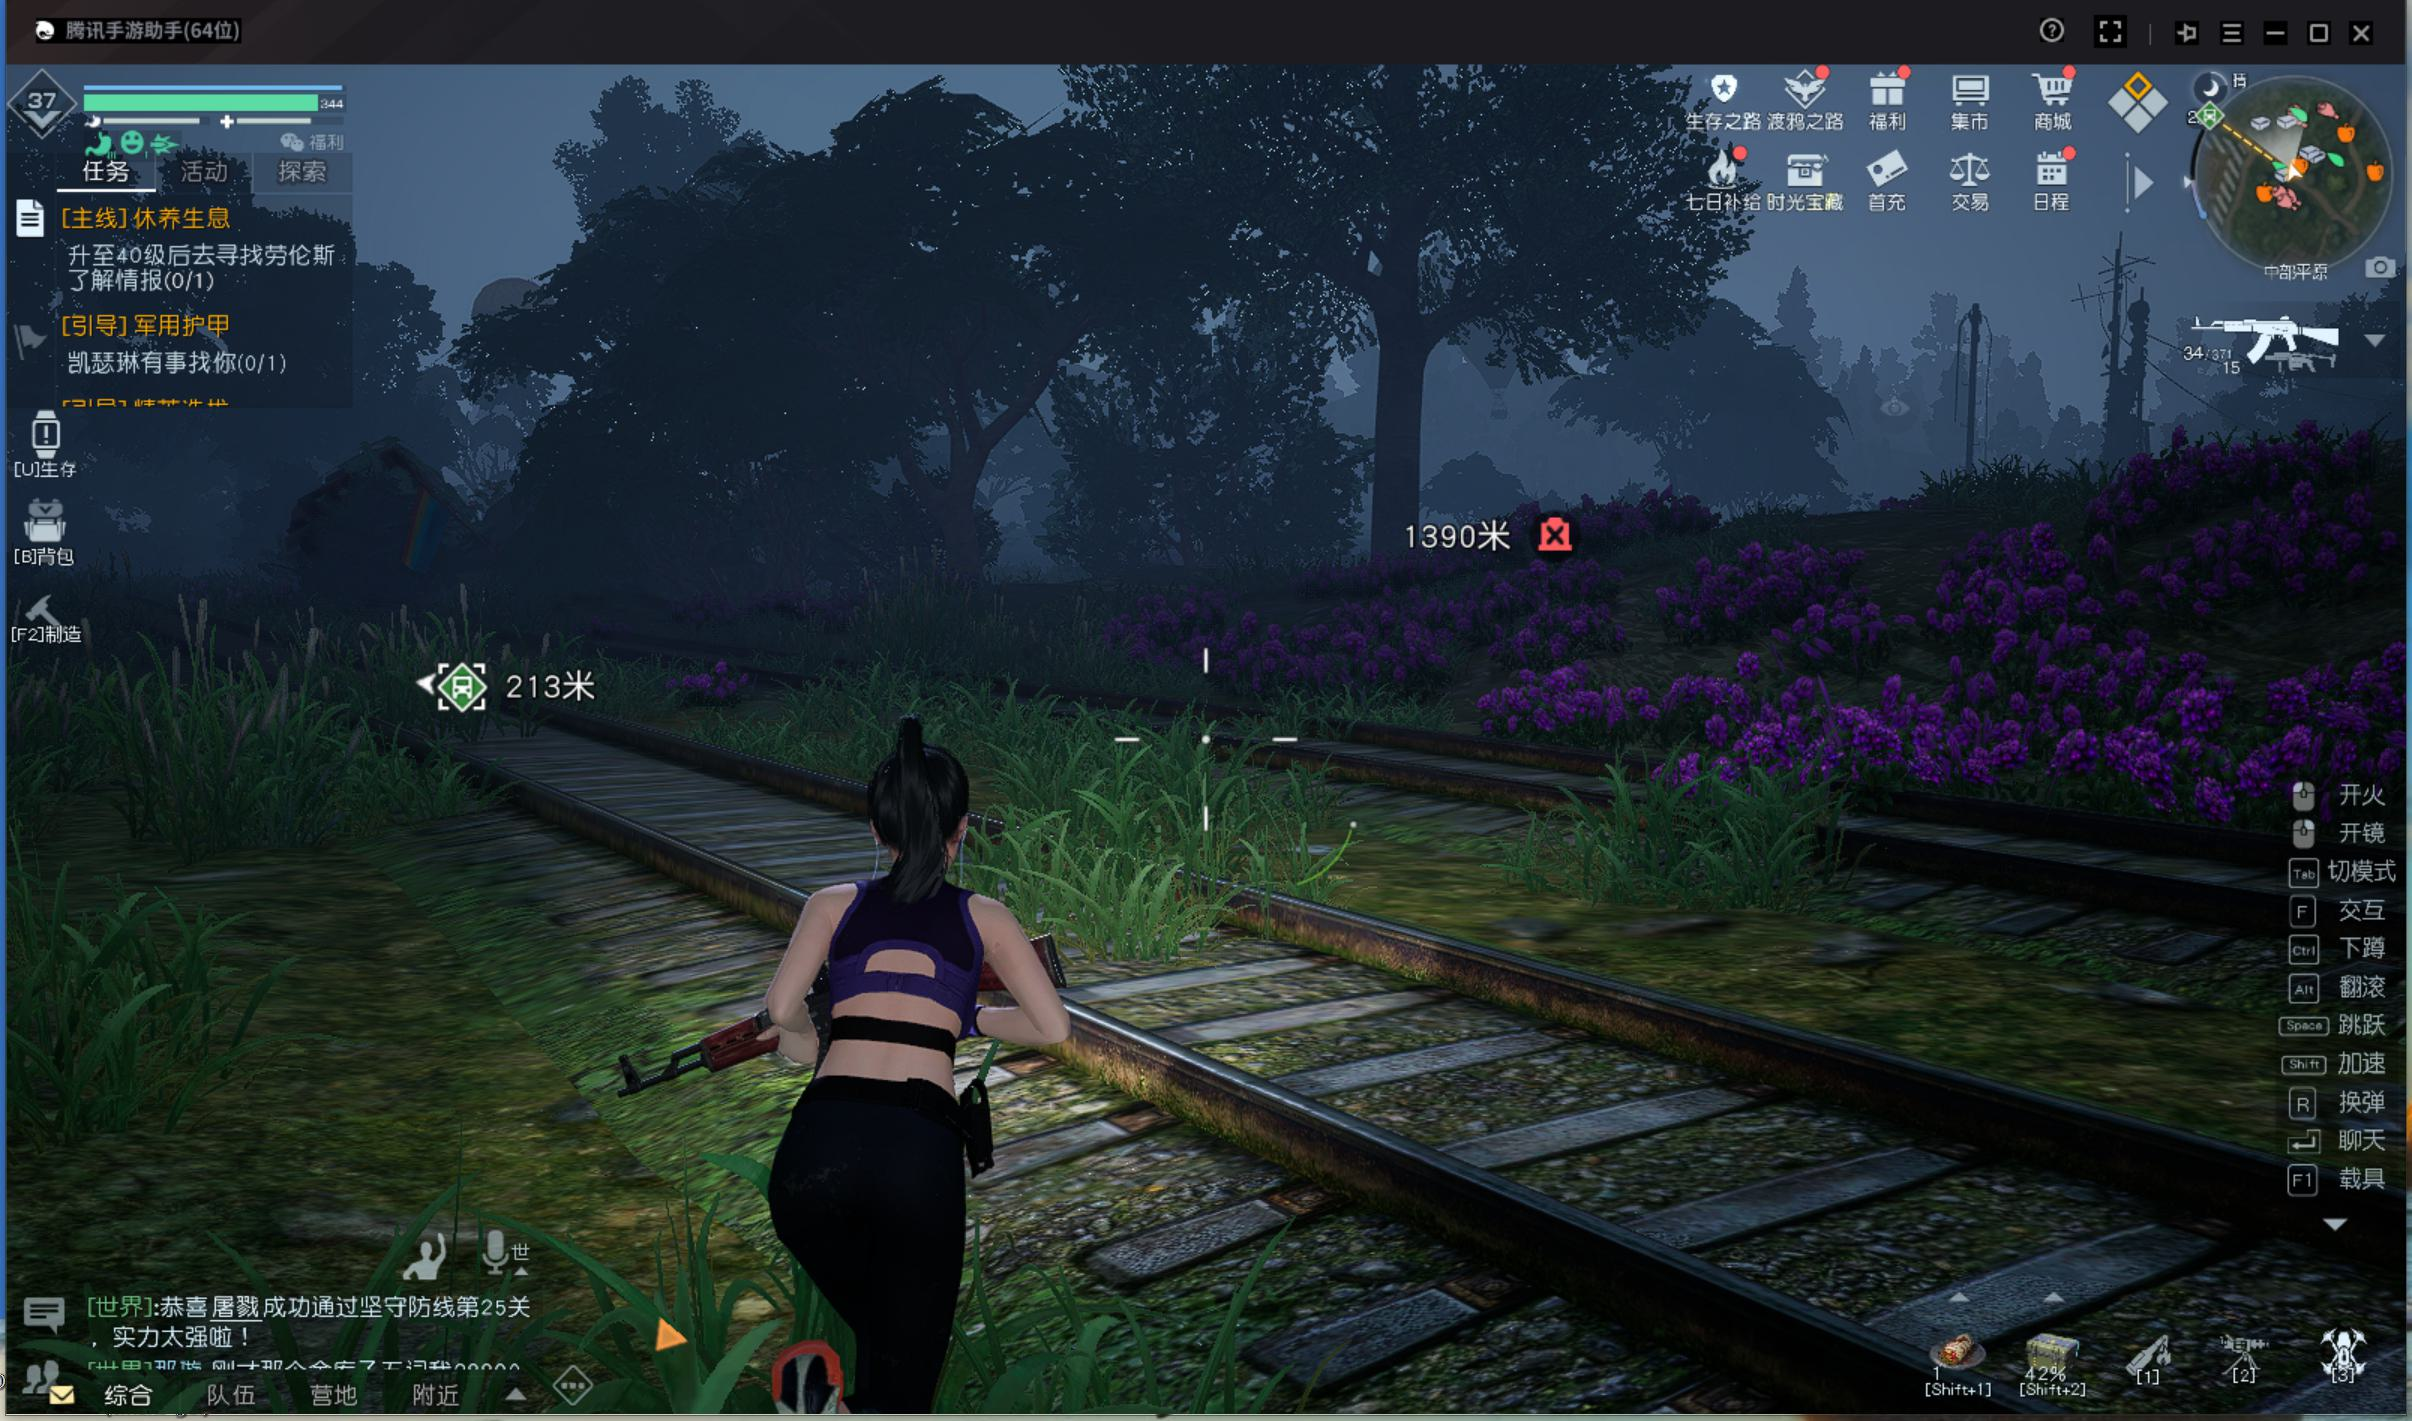tree: (1346, 340, 1438, 585), (924, 460, 988, 619)
